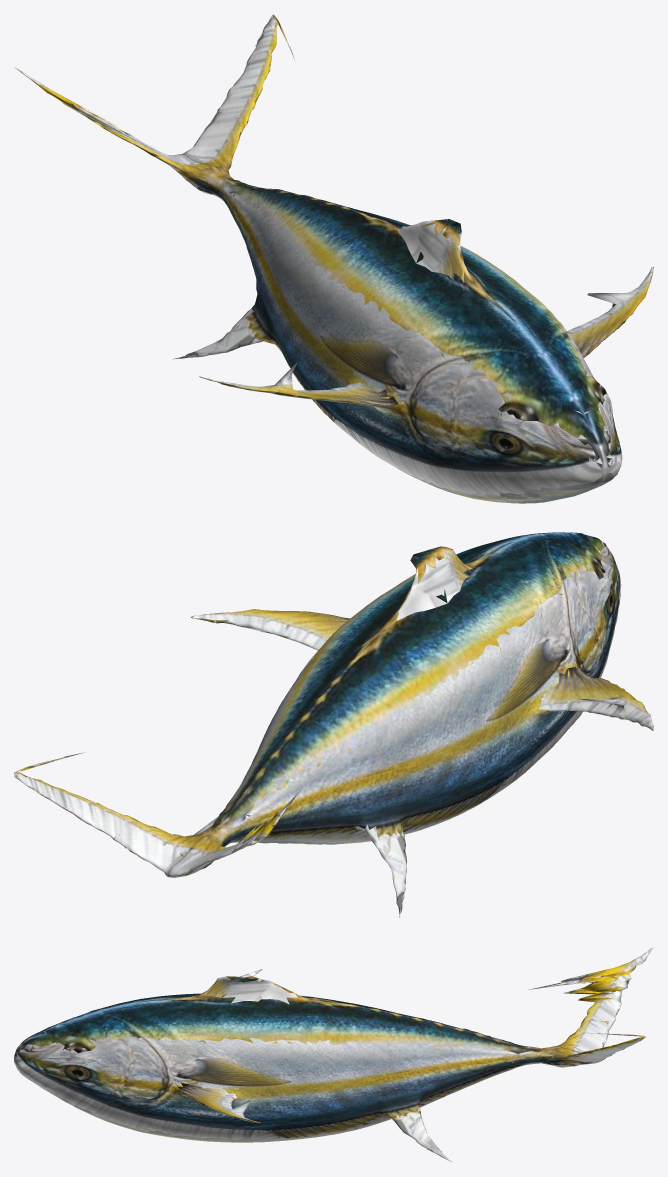
The model's file is fish_amberjack.glb.
3 renders of one model, top to bottom at view 1: azimuth 30°, elevation 25°; view 2: azimuth 150°, elevation 25°; view 3: azimuth 270°, elevation 25°, orthographic. The views are drawn at different scales.
Parts seen in each view (by area): view 1: orient; view 2: orient; view 3: orient.
Boxes of the visible parts, x1,y1,x2,y2 form: orient: (14, 14, 653, 503); orient: (14, 532, 653, 917); orient: (14, 947, 653, 1162).
Bounding box in the file's own units: 1.11 × 0.5308 × 1.95.
1 material, 1 textured.
